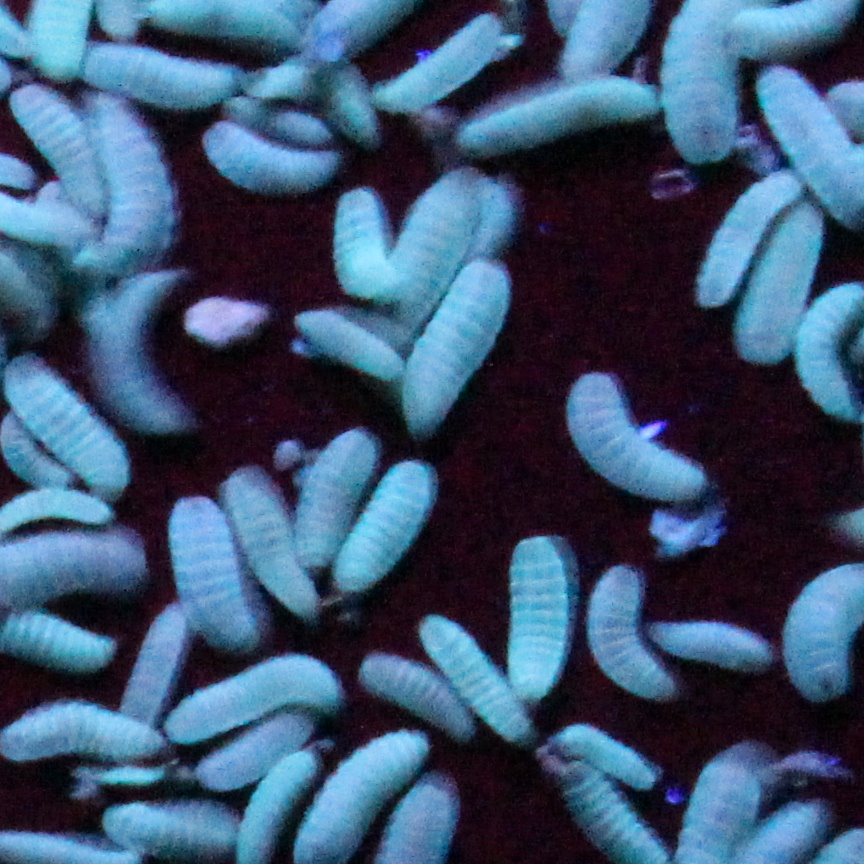larve: (353, 163, 490, 348), (83, 243, 198, 440), (73, 95, 185, 283), (150, 653, 353, 753), (403, 263, 513, 430), (143, 488, 258, 645), (573, 373, 715, 490), (328, 455, 445, 595), (213, 463, 318, 613), (458, 85, 685, 153), (733, 203, 828, 363), (700, 163, 800, 308), (423, 618, 535, 743), (580, 560, 670, 713), (293, 435, 380, 575), (8, 88, 100, 210), (505, 540, 568, 715), (100, 785, 250, 858), (293, 295, 423, 378), (198, 123, 343, 190), (85, 45, 248, 103), (195, 715, 325, 783), (335, 188, 410, 298), (120, 610, 200, 713), (360, 663, 470, 735), (558, 723, 663, 790), (650, 630, 790, 670), (253, 108, 338, 153)
